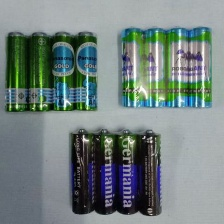battery: (67, 127, 96, 217), (136, 127, 164, 219), (163, 24, 192, 108), (119, 25, 147, 109), (73, 29, 100, 112), (142, 24, 168, 110), (49, 30, 76, 112), (26, 30, 53, 112), (188, 24, 214, 109), (2, 30, 28, 113), (92, 127, 116, 216), (116, 128, 139, 216)
